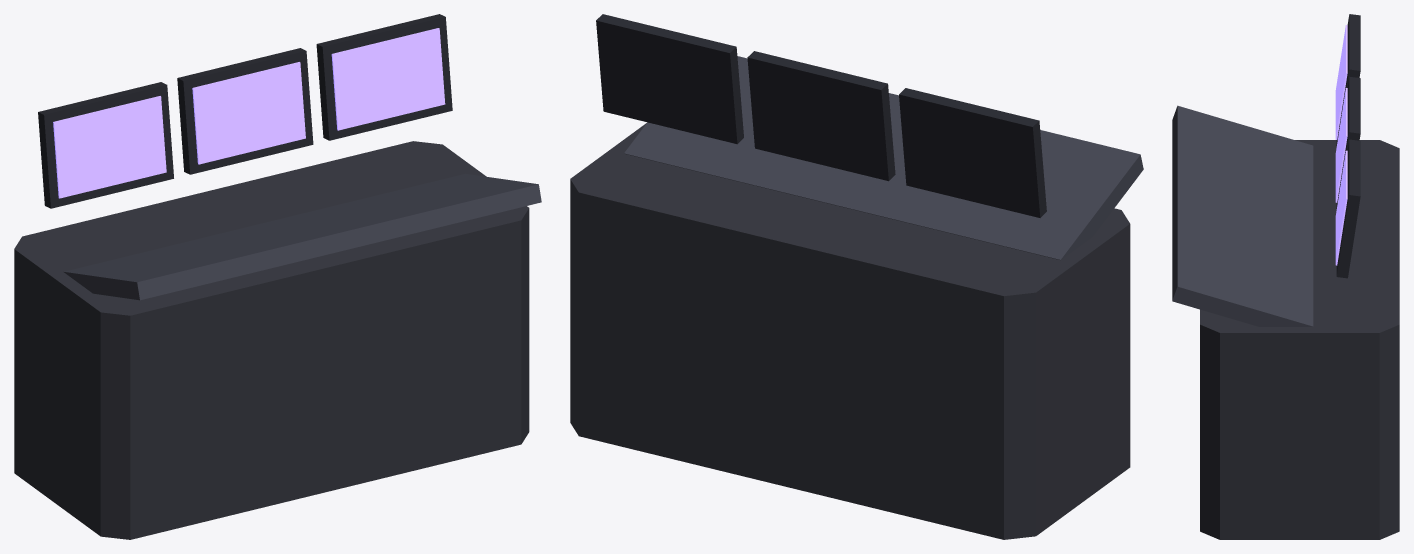
File: mrd_prp_console_a.glb
The picture shows the model from 3 angles, left to right: view 1: azimuth 30°, elevation 25°; view 2: azimuth 150°, elevation 25°; view 3: azimuth 270°, elevation 25°; orthographic projection. The views are drawn at different scales.
Visible parts, largest first — view 1: mesh_intact; view 2: mesh_intact; view 3: mesh_intact.
Part boxes in pixels (<box>): mesh_intact: <box>14,14,541,539</box>; mesh_intact: <box>570,14,1143,539</box>; mesh_intact: <box>1172,14,1399,539</box>.
Bounding box in the file's own units: 1.6 × 1.31 × 0.797.
